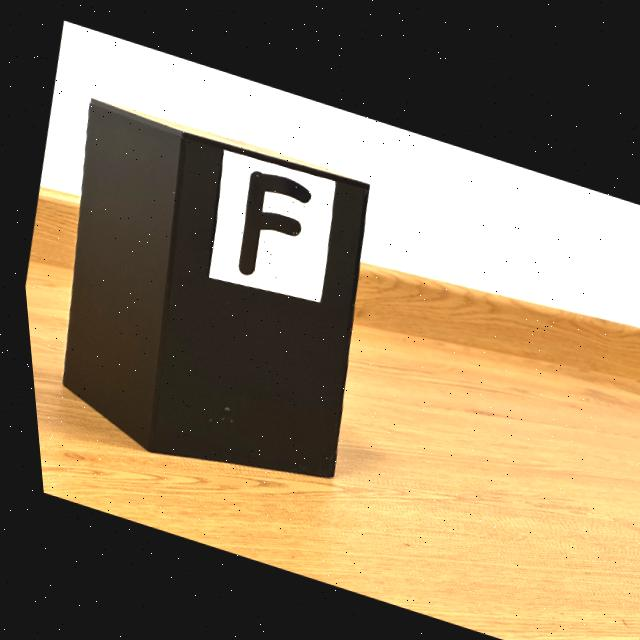F: (233, 166, 307, 270)
